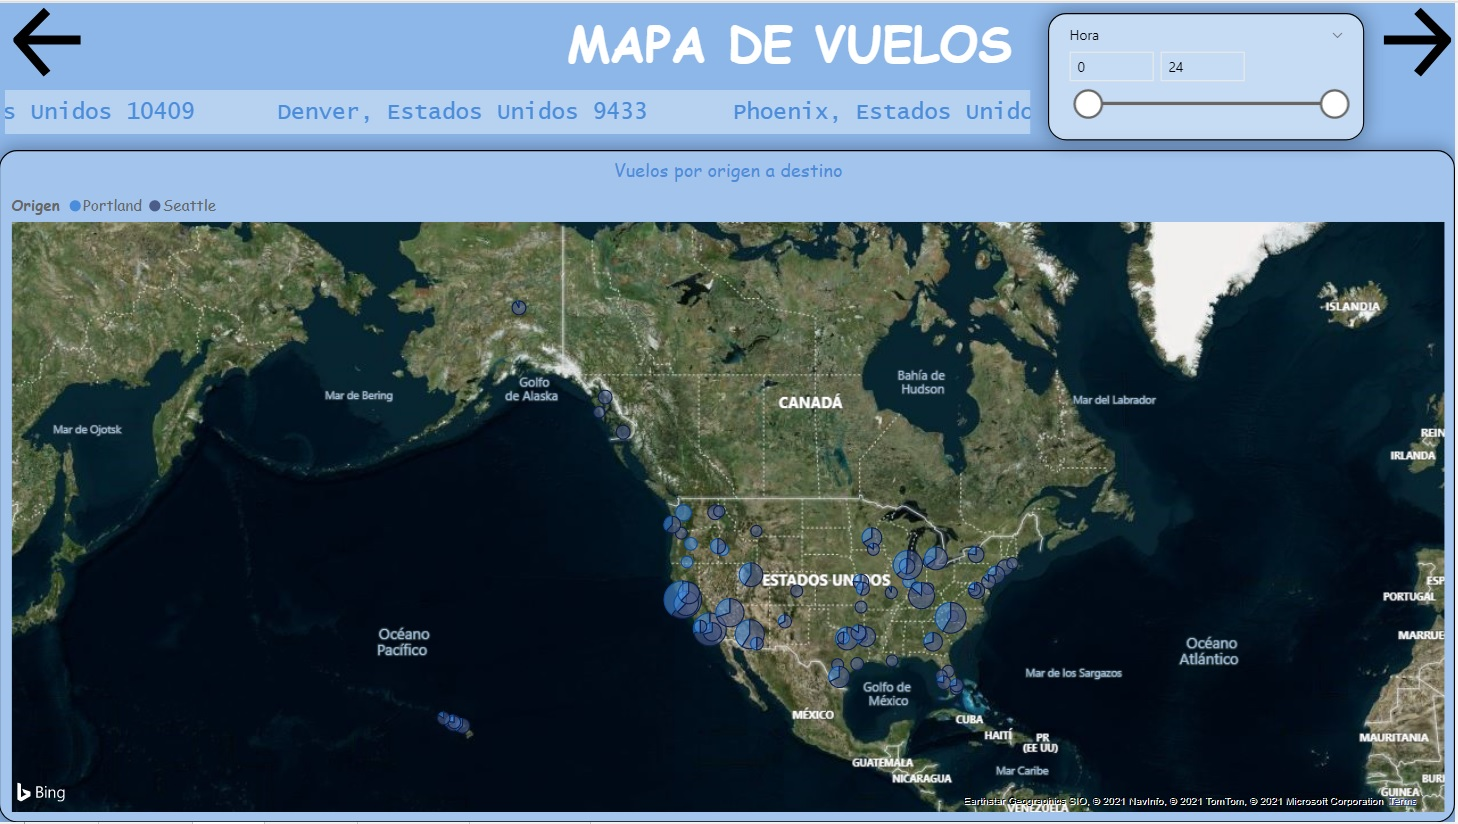

Layout of this report page (visuals, bound fields, positions):
{"tool":"powerbi","page":{"name":"Mapa","canvas":[1280,720],"ordinal":2},"visuals":[{"type":"map","title":"Vuelos por origen a destino","fields":{"Category":["flights.dest"],"Size":["CountNonNull(flights.Months)"],"Series":["flights.origin"]},"box":[0,129,1280,591],"z":0},{"type":"ScrollingTextVisual1448795304508","fields":{"Category":["flights.dest"],"Measure Absolute":["CountNonNull(flights.Months)"]},"box":[0,71.6,912.2,49],"z":1000},{"type":"slicer","fields":{"Values":["flights.hour"]},"box":[921.8,8.4,278.2,112.2],"z":2000},{"type":"textbox","box":[494.3,0,409.6,71.6],"z":3000},{"type":"actionButton","box":[9.6,0,69.3,69.3],"z":4000},{"type":"actionButton","box":[1210.7,0,69.3,69.3],"z":5000}]}

Visuals, with their boxes in screenshot pixels (x1, y1, x2, y2), scaled from the page's 1280x720 canvas onto the 1458x824 screenshot:
"Vuelos por origen a destino" map: 0:148:1457:823
ScrollingTextVisual1448795304508 - flights.dest x CountNonNull(flights.Months): 0:82:1039:138
slicer - flights.hour: 1050:10:1367:138
textbox: 563:0:1030:82
actionButton: 11:0:90:79
actionButton: 1379:0:1457:79
